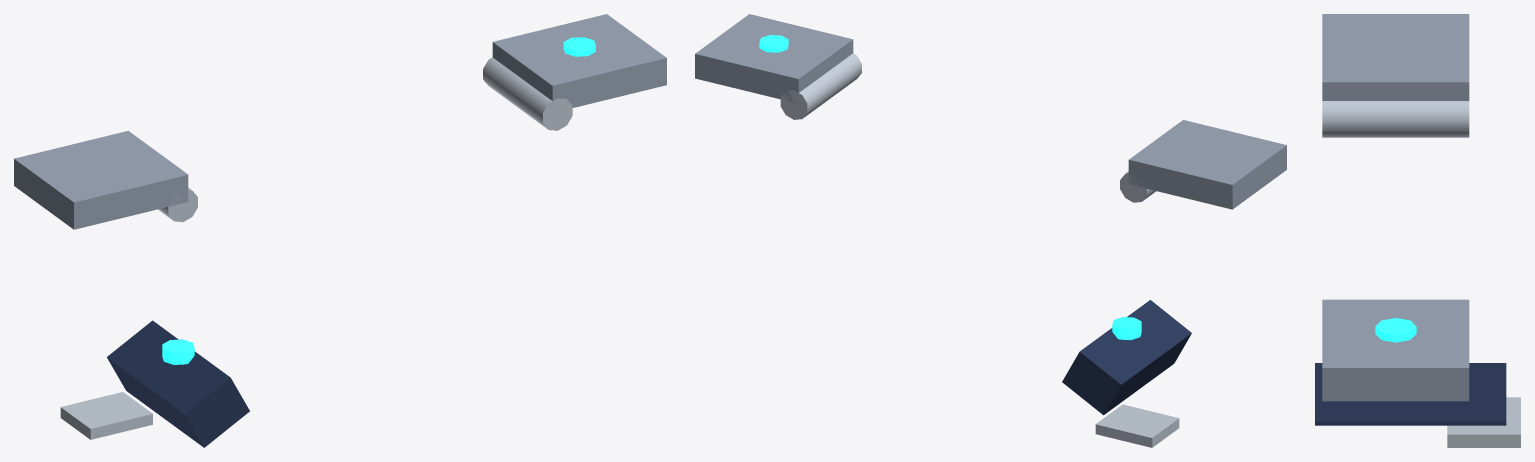
The model's file is tower_skywatch_rate_s3.glb.
The picture shows the model from 3 angles, left to right: view 1: azimuth 30°, elevation 25°; view 2: azimuth 150°, elevation 25°; view 3: azimuth 270°, elevation 25°; orthographic projection. The views are drawn at different scales.
Parts seen in each view (by area): view 1: skywatch_belt_guide_r, skywatch_belt_guide_l, skywatch_eject_chute, skywatch_eject_lip, skywatch_belt_guide_roller_l, skywatch_up_rate_l3_stud, skywatch_belt_guide_roller_r; view 2: skywatch_belt_guide_r, skywatch_belt_guide_l, skywatch_eject_chute, skywatch_eject_lip, skywatch_belt_guide_roller_l, skywatch_belt_guide_roller_r, skywatch_up_rate_l3_stud; view 3: skywatch_belt_guide_l, skywatch_belt_guide_r, skywatch_eject_chute, skywatch_belt_guide_roller_r, skywatch_eject_lip, skywatch_up_rate_l2_stud.
Part boxes in pixels (box(x1,y1,x2,y2)): skywatch_belt_guide_r: box(14, 130, 188, 229); skywatch_belt_guide_l: box(492, 14, 666, 107); skywatch_eject_chute: box(107, 320, 249, 447); skywatch_eject_lip: box(60, 392, 152, 439); skywatch_belt_guide_roller_l: box(483, 57, 572, 130); skywatch_up_rate_l3_stud: box(162, 339, 194, 364); skywatch_belt_guide_roller_r: box(158, 187, 197, 222); skywatch_belt_guide_r: box(1128, 120, 1286, 209); skywatch_belt_guide_l: box(695, 14, 853, 103); skywatch_eject_chute: box(1062, 300, 1191, 415); skywatch_eject_lip: box(1095, 404, 1179, 447); skywatch_belt_guide_roller_l: box(780, 53, 861, 119); skywatch_belt_guide_roller_r: box(1120, 171, 1156, 202); skywatch_up_rate_l3_stud: box(1112, 317, 1141, 340); skywatch_belt_guide_l: box(1322, 299, 1469, 401); skywatch_belt_guide_r: box(1322, 14, 1469, 100); skywatch_eject_chute: box(1315, 363, 1506, 425); skywatch_belt_guide_roller_r: box(1322, 101, 1469, 137); skywatch_eject_lip: box(1447, 397, 1520, 447); skywatch_up_rate_l2_stud: box(1375, 318, 1416, 342).
Bounding box in the file's own units: 1.14 × 0.546 × 0.28.
